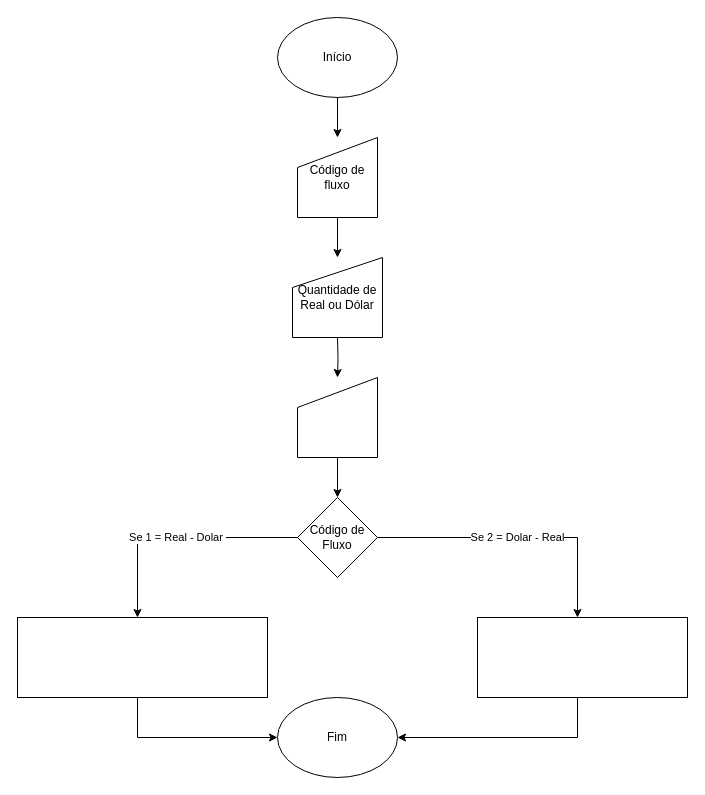
Some shapes in this 705 by 795 pixel diagram are drawn without their labels. The centre of each missing label's shape, as x and y in pixels:
"Cotação" belongs at point 337,417.
"R <- Quantidade de Reais / Cotação do Dolar" belongs at point 142,657.
"R<- Quantidade de Dólar * cotação" belongs at point 582,657.
